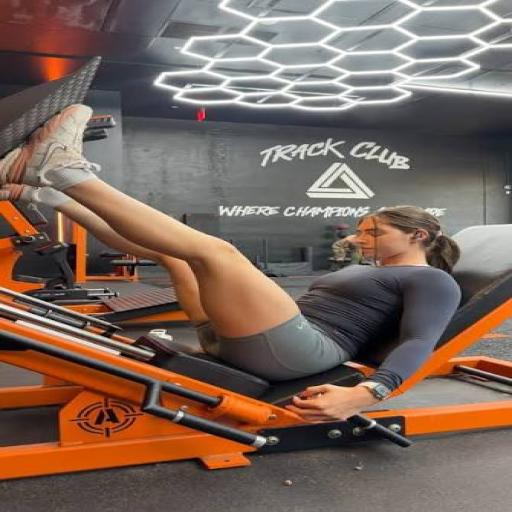Leg Press: (4, 76, 485, 436)
